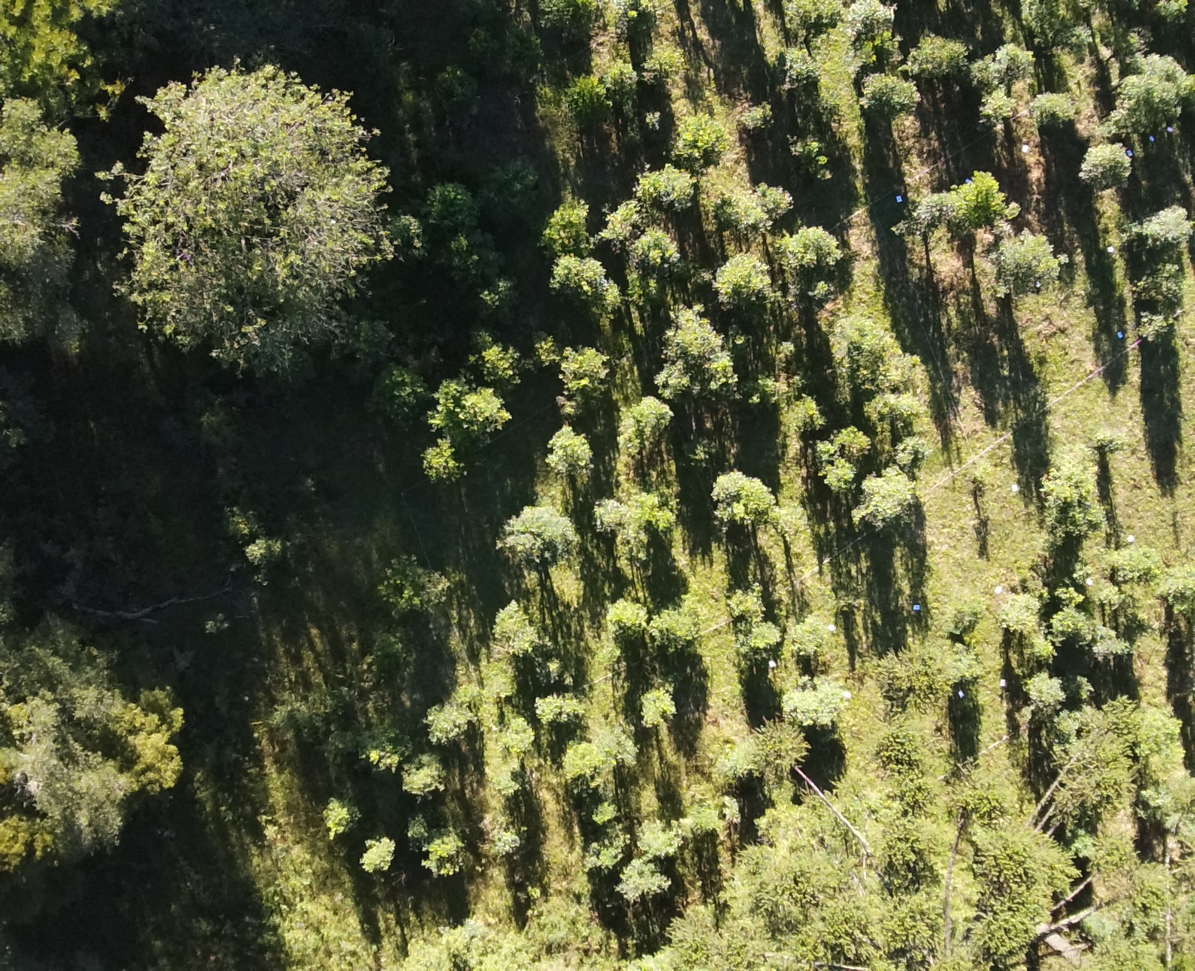erva: (1105, 49, 1192, 134), (661, 309, 736, 403), (886, 184, 963, 263), (1030, 457, 1096, 544), (993, 232, 1061, 310), (594, 483, 669, 553), (772, 222, 844, 294), (497, 502, 574, 569), (854, 477, 925, 537), (896, 25, 961, 83), (668, 118, 730, 177), (790, 675, 849, 736), (562, 736, 625, 793), (1062, 149, 1133, 197), (546, 252, 606, 308), (952, 171, 1008, 231), (817, 422, 869, 486), (708, 468, 762, 529), (855, 68, 916, 122), (828, 320, 887, 375), (615, 395, 667, 457), (633, 161, 693, 214), (555, 352, 612, 406), (1106, 528, 1153, 592), (711, 251, 766, 305), (650, 597, 702, 654), (1133, 265, 1190, 317), (708, 736, 769, 784), (456, 397, 512, 447), (983, 587, 1046, 631), (715, 183, 768, 235), (968, 34, 1025, 82), (935, 633, 982, 690), (837, 0, 888, 52), (475, 338, 524, 392), (780, 1, 840, 45), (426, 369, 472, 426), (377, 367, 427, 419), (782, 610, 831, 663), (617, 857, 667, 908), (403, 755, 460, 799), (857, 393, 918, 434), (625, 238, 681, 282), (1123, 206, 1192, 241), (541, 427, 590, 476), (1031, 81, 1081, 129), (536, 686, 588, 732), (494, 604, 539, 656), (423, 837, 471, 885), (636, 820, 683, 866), (603, 601, 649, 648), (630, 677, 674, 725), (410, 441, 464, 480), (1079, 565, 1120, 614), (595, 199, 636, 247), (971, 86, 1016, 127), (738, 630, 780, 671), (1053, 600, 1092, 644), (1084, 421, 1125, 462), (727, 592, 766, 635), (353, 835, 397, 872), (589, 827, 626, 871), (319, 793, 355, 837), (1028, 666, 1062, 712), (1093, 624, 1128, 667), (766, 180, 795, 216), (402, 812, 434, 841)
